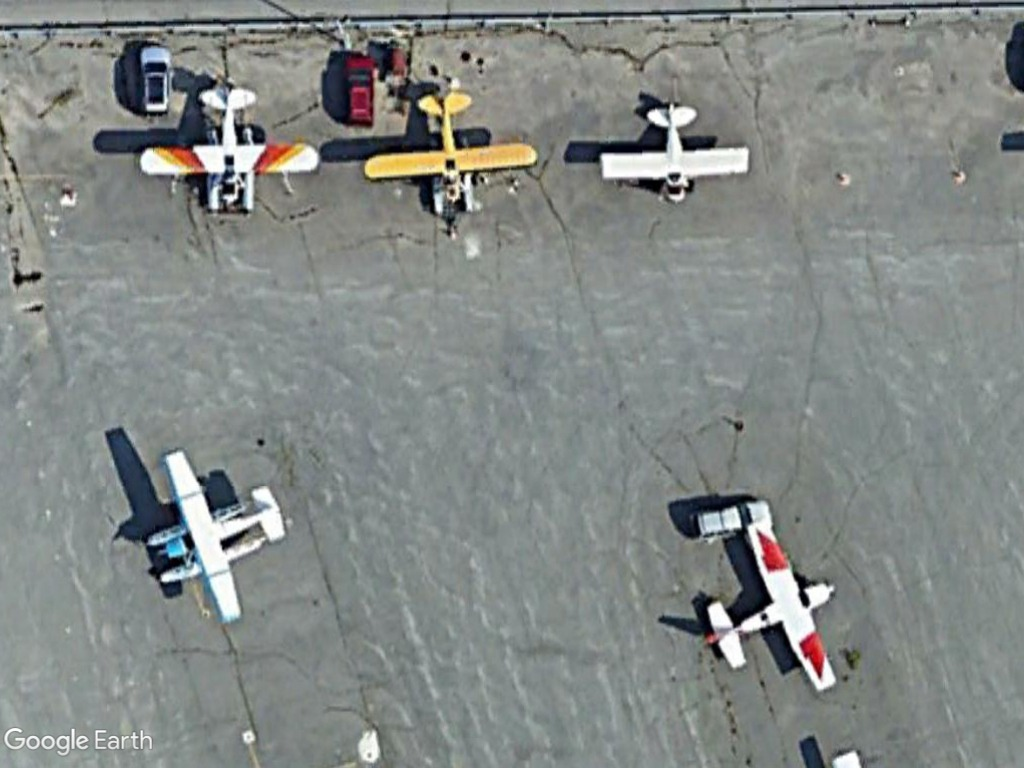car: (682, 490, 774, 546), (339, 49, 383, 134), (135, 40, 175, 124)
trainer: (698, 515, 845, 694), (356, 84, 539, 216), (136, 81, 323, 207), (599, 101, 755, 207)
